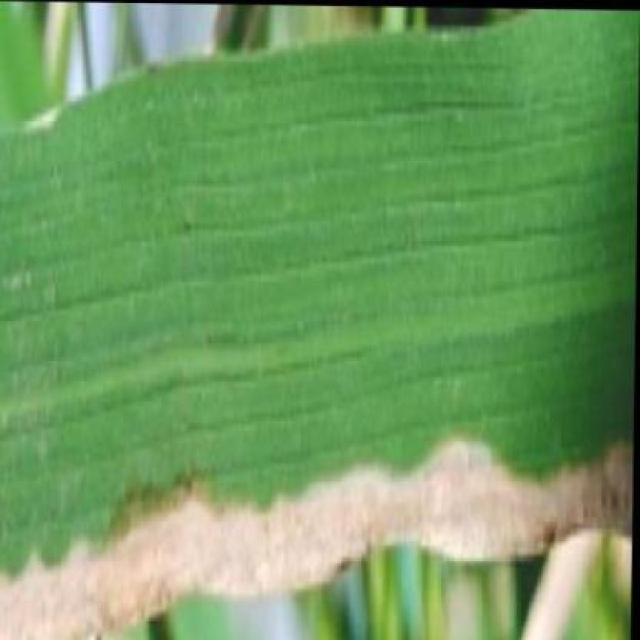Brown_Spot: (0, 290, 637, 590)
